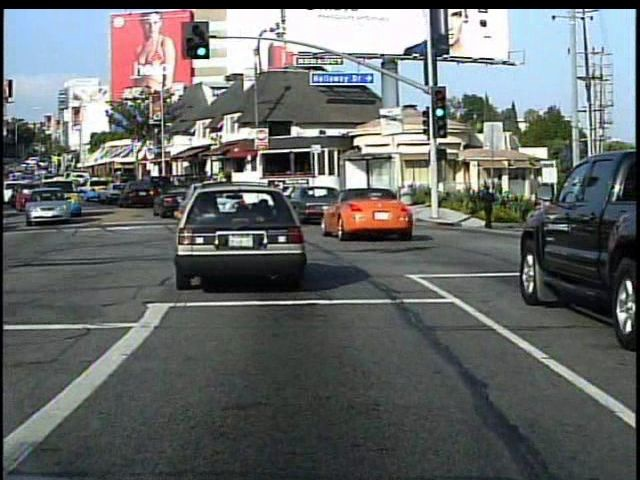person: (565, 185, 588, 246), (477, 182, 499, 229)
